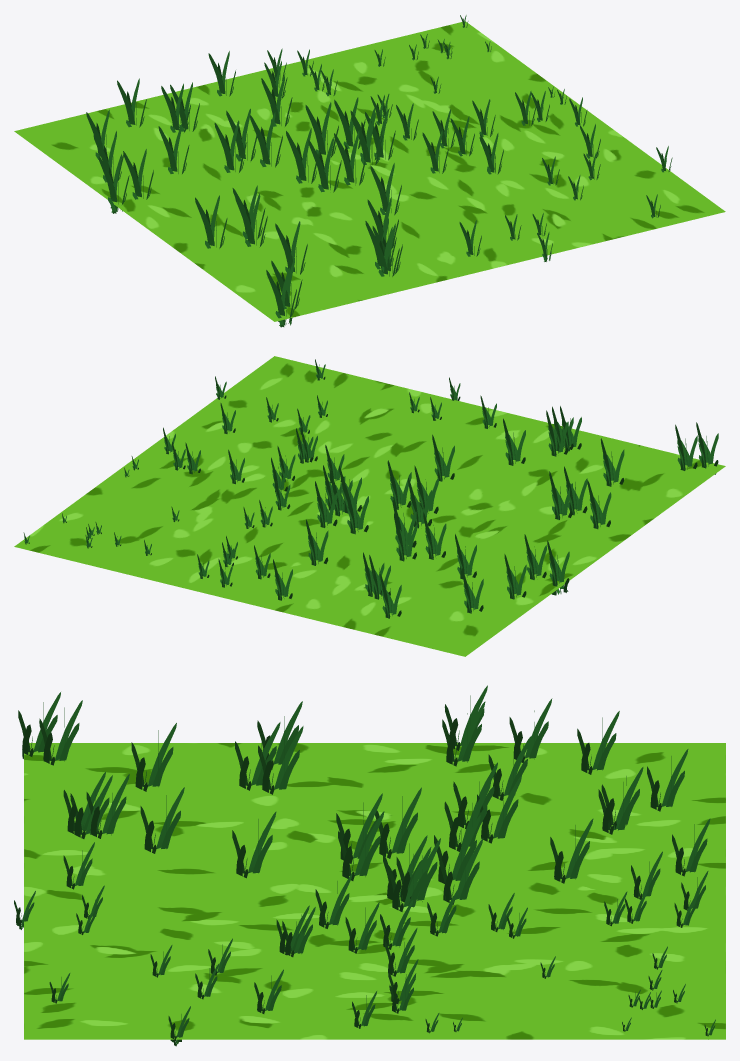
File: Rumput_Pendek_Material.fbx
The picture shows the model from 3 angles, top to bottom: view 1: azimuth 30°, elevation 25°; view 2: azimuth 150°, elevation 25°; view 3: azimuth 270°, elevation 25°; orthographic projection. The views are drawn at different scales.
Parts seen in each view (by area): view 1: Plane, Plane|Rumput|Dupli|13, Plane|Rumput|Dupli|24, Plane|Rumput|Dupli|56, Plane|Rumput|Dupli|29, Plane|Rumput|Dupli|76, Plane|Rumput|Dupli|19, Plane|Rumput|Dupli|14, Plane|Rumput|Dupli|69, Plane|Rumput|Dupli|11, Plane|Rumput|Dupli|48, Plane|Rumput|Dupli|15 (+7 smaller); view 2: Plane, Plane|Rumput|Dupli|14, Plane|Rumput|Dupli|19, Plane|Rumput|Dupli|34, Plane|Rumput|Dupli|11, Plane|Rumput|Dupli|33, Plane|Rumput|Dupli|13, Plane|Rumput|Dupli|29; view 3: Plane, Plane|Rumput|Dupli|29, Plane|Rumput|Dupli|13, Plane|Rumput|Dupli|34, Plane|Rumput|Dupli|53, Plane|Rumput|Dupli|22, Plane|Rumput|Dupli|36, Plane|Rumput|Dupli|74, Plane|Rumput|Dupli|59, Plane|Rumput|Dupli|33, Plane|Rumput|Dupli|7, Plane|Rumput|Dupli|68 (+21 smaller).
Boxes of the visible parts, x1=… form: Plane: x1=14, y1=21, x2=725, y2=321; Plane|Rumput|Dupli|13: x1=334, y1=130, x2=367, y2=185; Plane|Rumput|Dupli|24: x1=308, y1=137, x2=341, y2=192; Plane|Rumput|Dupli|56: x1=250, y1=112, x2=282, y2=167; Plane|Rumput|Dupli|29: x1=286, y1=128, x2=319, y2=183; Plane|Rumput|Dupli|76: x1=266, y1=267, x2=296, y2=327; Plane|Rumput|Dupli|19: x1=305, y1=102, x2=338, y2=157; Plane|Rumput|Dupli|14: x1=98, y1=154, x2=129, y2=213; Plane|Rumput|Dupli|69: x1=235, y1=193, x2=267, y2=247; Plane|Rumput|Dupli|11: x1=195, y1=195, x2=227, y2=248; Plane|Rumput|Dupli|48: x1=214, y1=120, x2=246, y2=172; Plane|Rumput|Dupli|15: x1=351, y1=112, x2=382, y2=165; Plane: x1=14, y1=356, x2=725, y2=656; Plane|Rumput|Dupli|14: x1=547, y1=540, x2=569, y2=595; Plane|Rumput|Dupli|19: x1=344, y1=484, x2=368, y2=534; Plane|Rumput|Dupli|34: x1=600, y1=438, x2=624, y2=486; Plane|Rumput|Dupli|11: x1=587, y1=480, x2=611, y2=529; Plane|Rumput|Dupli|33: x1=394, y1=513, x2=417, y2=561; Plane|Rumput|Dupli|13: x1=387, y1=460, x2=411, y2=509; Plane|Rumput|Dupli|29: x1=408, y1=478, x2=432, y2=528; Plane: x1=24, y1=743, x2=725, y2=1039; Plane|Rumput|Dupli|29: x1=375, y1=787, x2=421, y2=858; Plane|Rumput|Dupli|13: x1=338, y1=811, x2=384, y2=880; Plane|Rumput|Dupli|34: x1=131, y1=723, x2=176, y2=791; Plane|Rumput|Dupli|53: x1=258, y1=726, x2=303, y2=794; Plane|Rumput|Dupli|22: x1=232, y1=811, x2=276, y2=878; Plane|Rumput|Dupli|36: x1=140, y1=787, x2=184, y2=853; Plane|Rumput|Dupli|74: x1=39, y1=700, x2=82, y2=765; Plane|Rumput|Dupli|59: x1=550, y1=818, x2=593, y2=883; Plane|Rumput|Dupli|33: x1=477, y1=775, x2=521, y2=843; Plane|Rumput|Dupli|7: x1=442, y1=701, x2=485, y2=766; Plane|Rumput|Dupli|68: x1=439, y1=838, x2=483, y2=904.
Size of the model in its own units: 203 by 25.1 by 203.
Materials: 2 (1 with a texture image).
